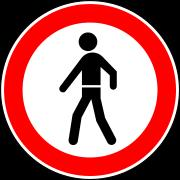Pedestrian Crossing: (11, 7, 174, 168)
